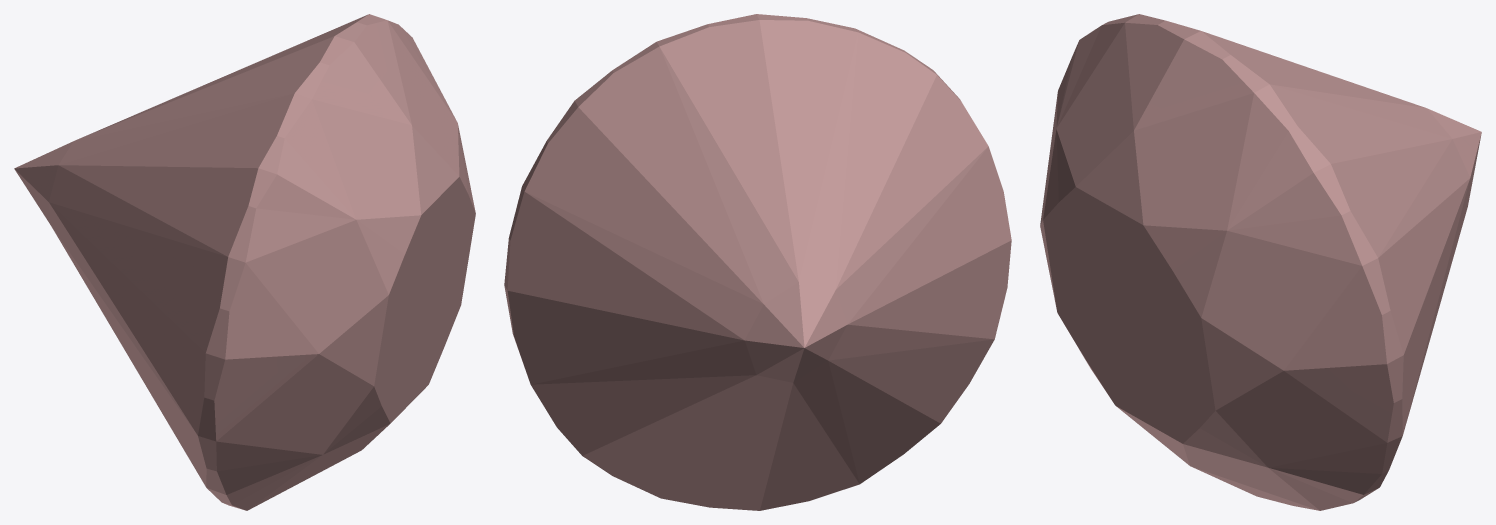
File: BR3_8shapes_Round_Classic_Stone.001 3.glb
The picture shows the model from 3 angles, left to right: view 1: azimuth 30°, elevation 25°; view 2: azimuth 150°, elevation 25°; view 3: azimuth 270°, elevation 25°; orthographic projection. The views are drawn at different scales.
Parts seen in each view (by area): view 1: BR3_8shapes_Round_Classic_Stone.001; view 2: BR3_8shapes_Round_Classic_Stone.001; view 3: BR3_8shapes_Round_Classic_Stone.001.
Part boxes in pixels (x1,y1,x2,y2): BR3_8shapes_Round_Classic_Stone.001: (14, 14, 475, 510); BR3_8shapes_Round_Classic_Stone.001: (504, 14, 1011, 510); BR3_8shapes_Round_Classic_Stone.001: (1040, 14, 1481, 510).
Bounding box in the file's own units: 0.4121 × 0.5101 × 0.4275.
